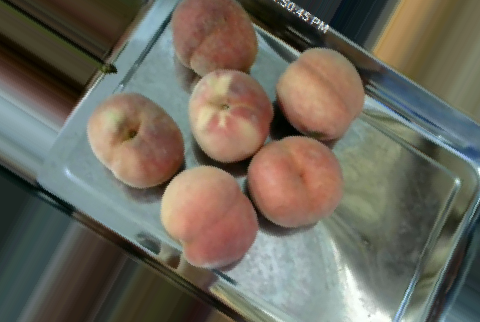Peach: (160, 166, 258, 269), (86, 91, 185, 187), (247, 136, 342, 229), (280, 47, 364, 140), (189, 69, 273, 162), (170, 0, 258, 76)
